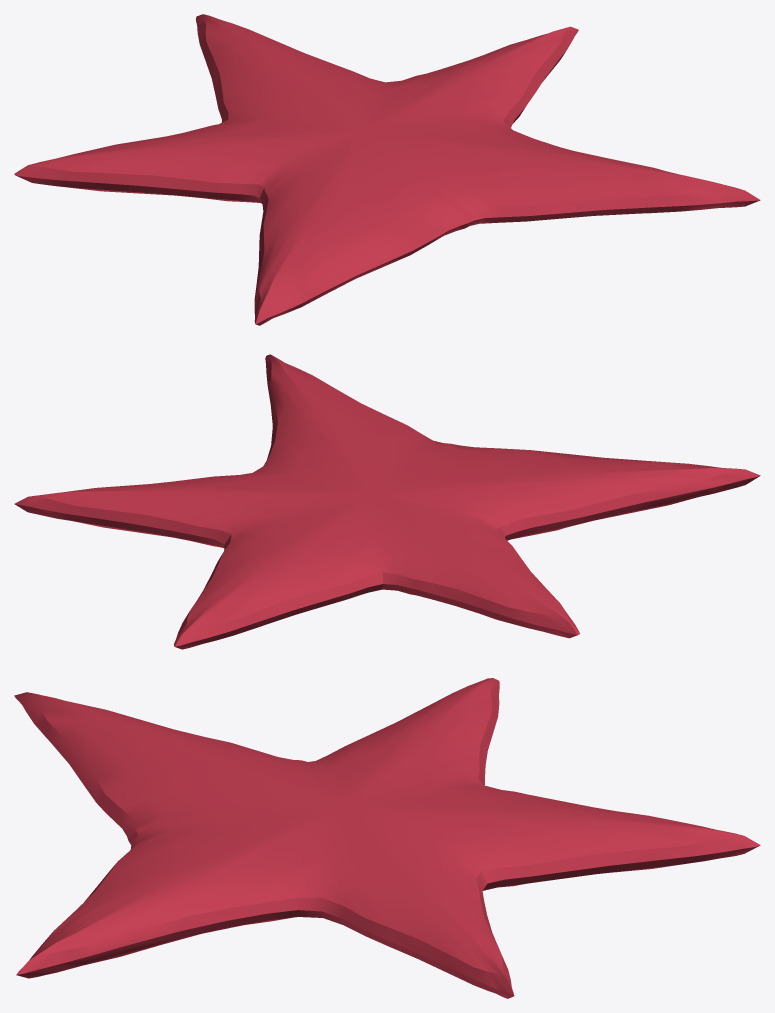
File: Star.fbx
3 views of the same model, one above another, from view 1: azimuth 30°, elevation 25°; view 2: azimuth 150°, elevation 25°; view 3: azimuth 270°, elevation 25° (orthographic). The views are drawn at different scales.
Parts seen in each view (by area): view 1: Plane.007; view 2: Plane.007; view 3: Plane.007.
Part boxes in pixels (left/top/right/bottom): Plane.007: left=14, top=14, right=760, bottom=325; Plane.007: left=14, top=354, right=760, bottom=649; Plane.007: left=14, top=678, right=760, bottom=998.
Size of the model in its own units: 167 by 14.26 by 167.
